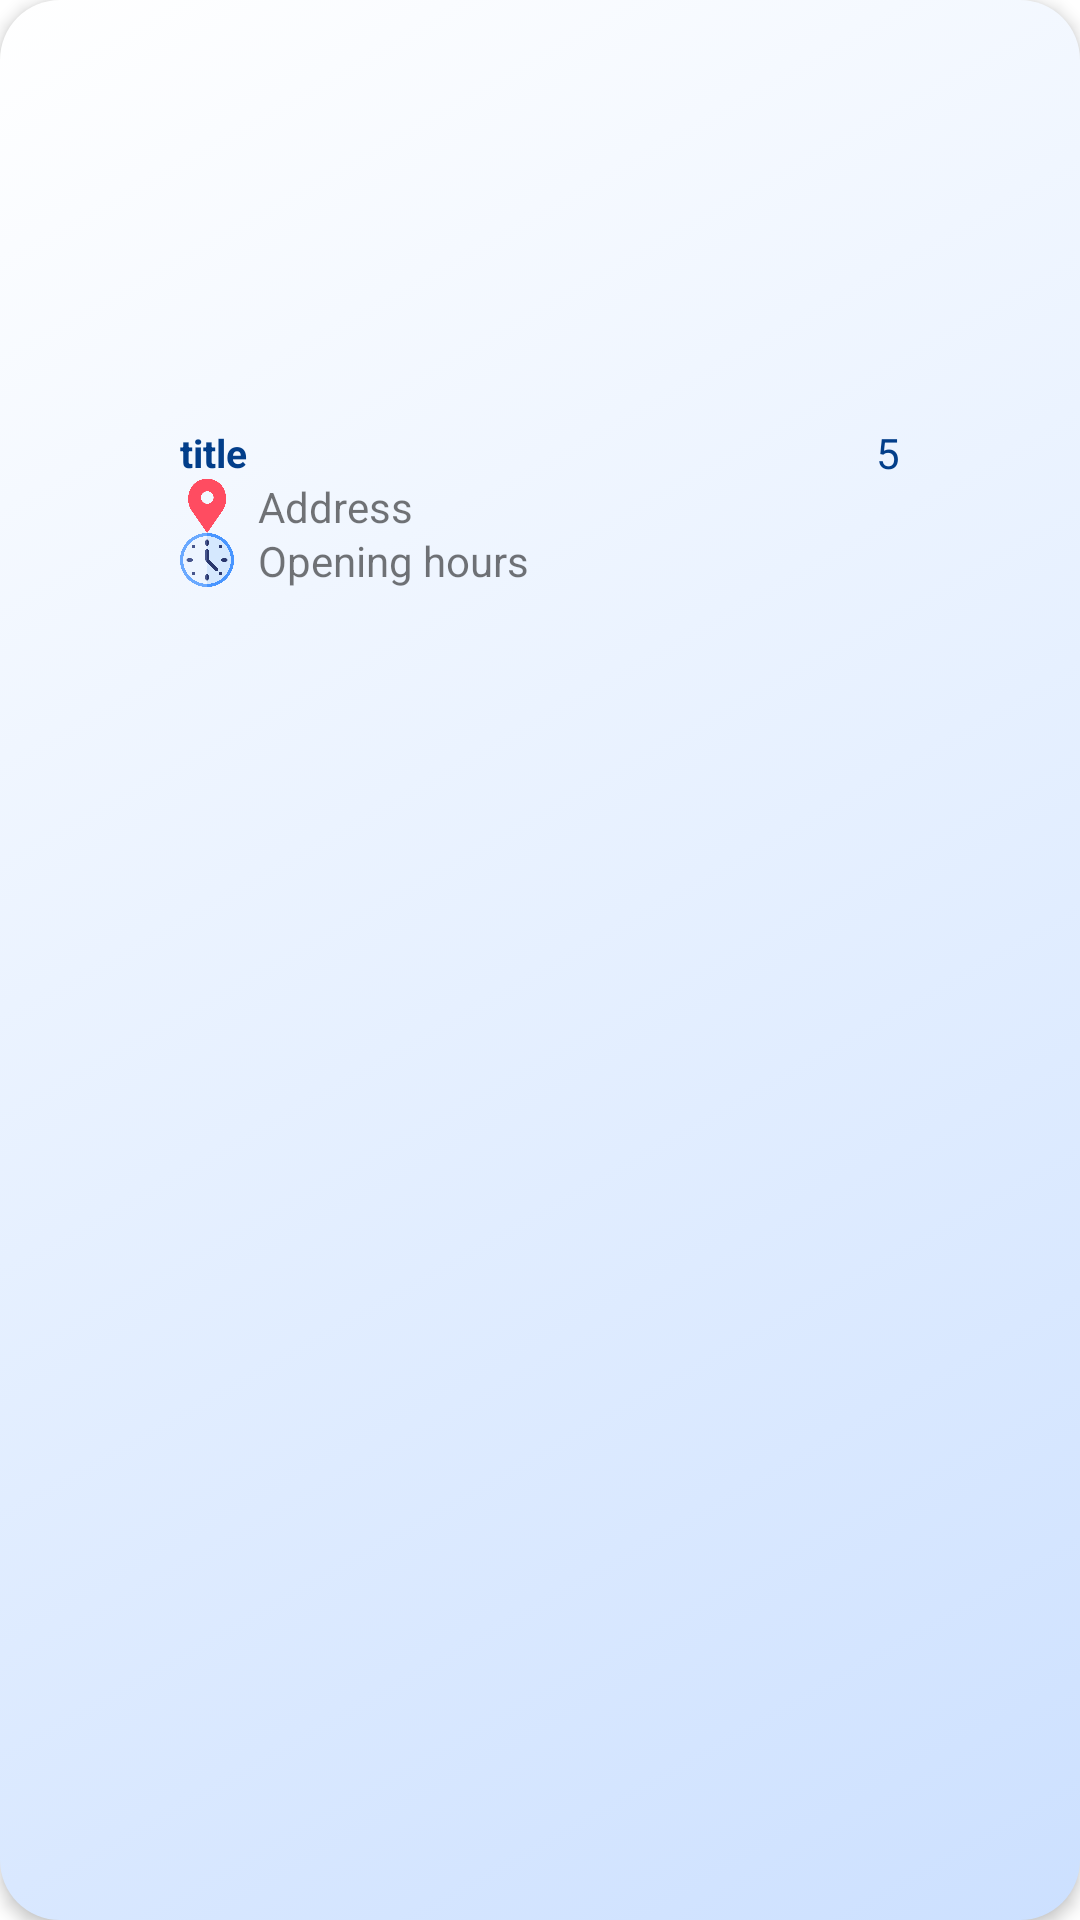

Icon click points for this 1080px×1920px phone screenshot, format (x,y):
clock: (207,560)
location: (207,506)
